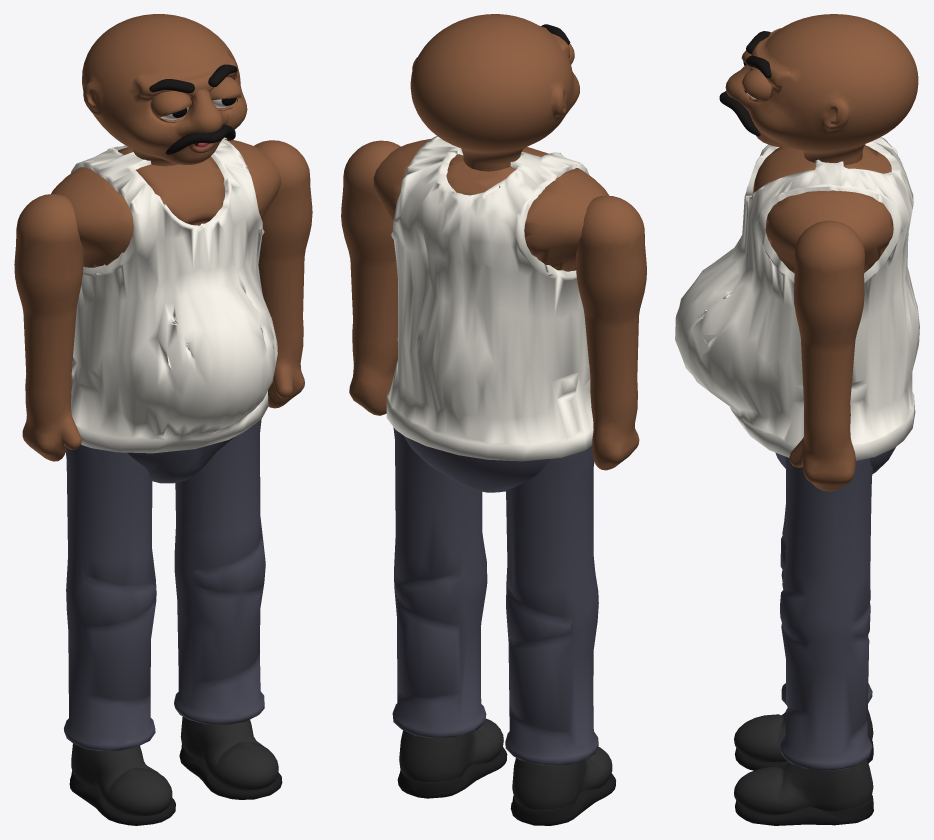
File: dad.glb
The picture shows the model from 3 angles, left to right: view 1: azimuth 30°, elevation 25°; view 2: azimuth 150°, elevation 25°; view 3: azimuth 270°, elevation 25°; orthographic projection. The views are drawn at different scales.
Visible parts, largest first — view 1: Body_Mesh, LegR_Mesh, LegL_Mesh, Head_Mesh, ArmR_Mesh, ArmL_Mesh; view 2: Body_Mesh, LegR_Mesh, LegL_Mesh, Head_Mesh, ArmR_Mesh, ArmL_Mesh; view 3: Body_Mesh, LegL_Mesh, Head_Mesh, ArmL_Mesh, LegR_Mesh.
Boxes of the visible parts, x1,y1,x2,y2 form: Body_Mesh: [51, 138, 281, 483]; LegR_Mesh: [64, 444, 175, 825]; LegL_Mesh: [174, 419, 282, 799]; Head_Mesh: [82, 14, 247, 166]; ArmR_Mesh: [14, 194, 83, 461]; ArmL_Mesh: [254, 140, 312, 408]; Body_Mesh: [373, 136, 609, 492]; LegR_Mesh: [505, 446, 615, 825]; LegL_Mesh: [392, 427, 507, 798]; Head_Mesh: [410, 14, 579, 171]; ArmR_Mesh: [575, 195, 646, 470]; ArmL_Mesh: [341, 140, 400, 415]; Body_Mesh: [675, 137, 919, 473]; LegL_Mesh: [734, 456, 873, 825]; Head_Mesh: [719, 14, 918, 165]; ArmL_Mesh: [789, 220, 865, 491]; LegR_Mesh: [734, 472, 873, 770].
Size of the model in its own units: 0.7205 by 1.8 by 0.524.
